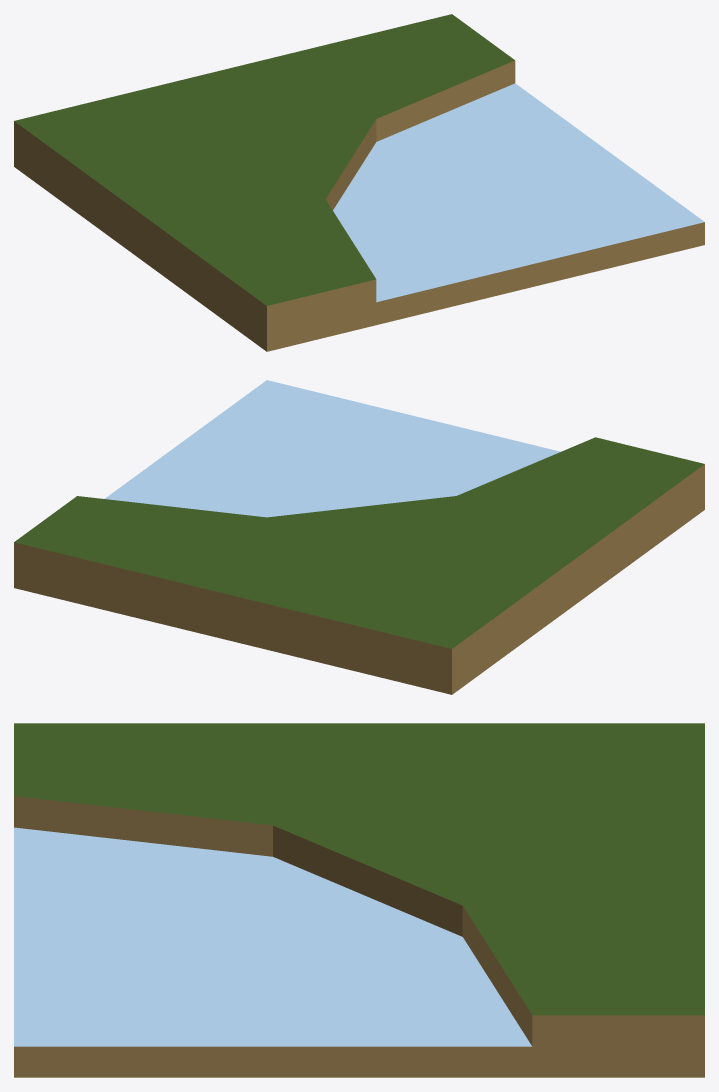
Rendered from Terrain_Modular_Tiles_Grass_Dirt_Water_Edge_Corner_Outer_01.fbx.
3 renders of one model, top to bottom at view 1: azimuth 30°, elevation 25°; view 2: azimuth 150°, elevation 25°; view 3: azimuth 270°, elevation 25°, orthographic. The views are drawn at different scales.
Visible parts, largest first — view 1: Terrain_Modular_Tiles_Grass_Dirt_Water_Edge_Corner_Outer_01; view 2: Terrain_Modular_Tiles_Grass_Dirt_Water_Edge_Corner_Outer_01; view 3: Terrain_Modular_Tiles_Grass_Dirt_Water_Edge_Corner_Outer_01.
Boxes of the visible parts, x1=… form: Terrain_Modular_Tiles_Grass_Dirt_Water_Edge_Corner_Outer_01: x1=14, y1=14, x2=704, y2=351; Terrain_Modular_Tiles_Grass_Dirt_Water_Edge_Corner_Outer_01: x1=14, y1=380, x2=704, y2=694; Terrain_Modular_Tiles_Grass_Dirt_Water_Edge_Corner_Outer_01: x1=14, y1=723, x2=704, y2=1077.
Size of the model in its own units: 3000 by 300 by 3000.
